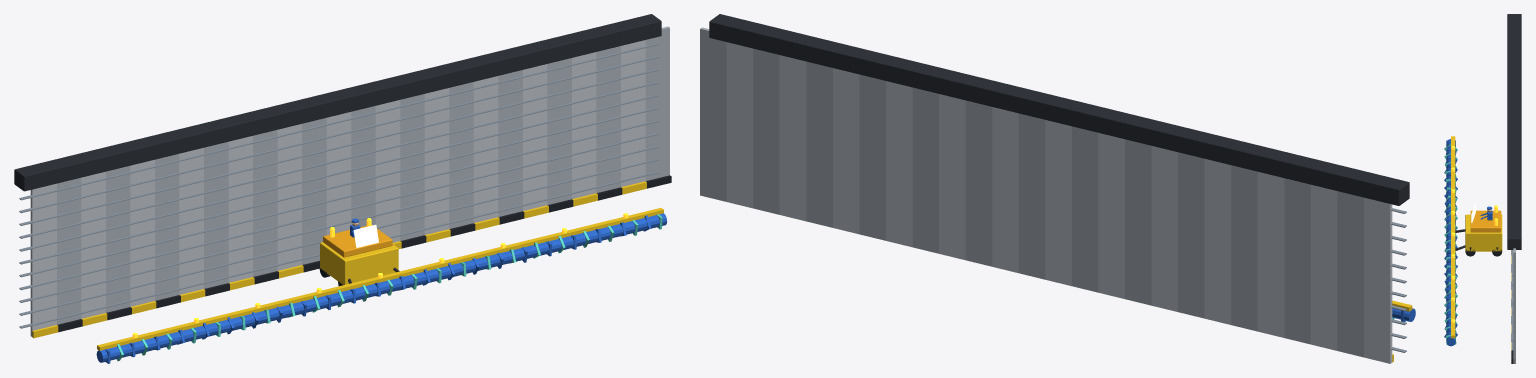
Rendered from shutter-scrubber.glb.
3 renders of one model, left to right at view 1: azimuth 30°, elevation 25°; view 2: azimuth 150°, elevation 25°; view 3: azimuth 270°, elevation 25°, orthographic. The views are drawn at different scales.
Visible parts, largest first — view 1: shutter-scrubber; view 2: shutter-scrubber; view 3: shutter-scrubber.
Boxes of the visible parts, <box> form: shutter-scrubber: <box>14,14,671,363</box>; shutter-scrubber: <box>700,14,1415,363</box>; shutter-scrubber: <box>1444,14,1521,363</box>.
Bounding box in the file's own units: 53 × 13.19 × 7.57.
